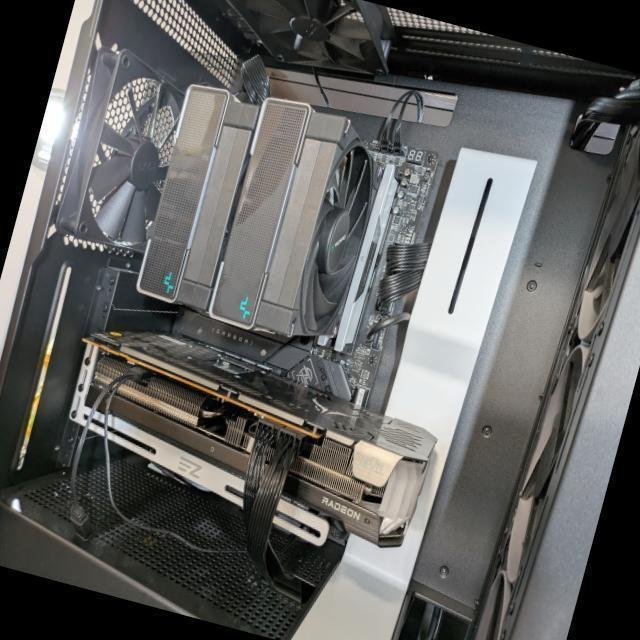CPU_Fan: (130, 77, 392, 357)
RAM: (330, 161, 404, 359)
